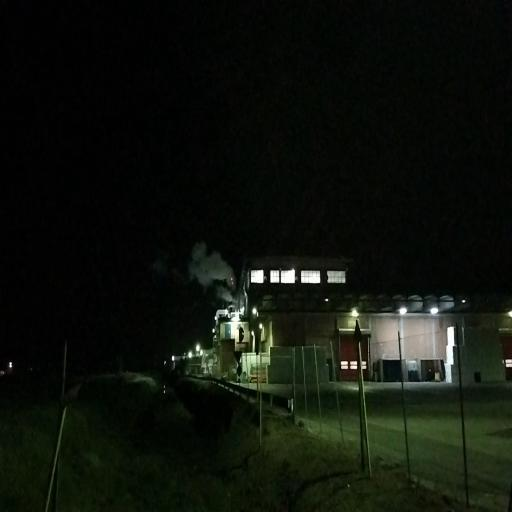leakage: (182, 229, 240, 302)
